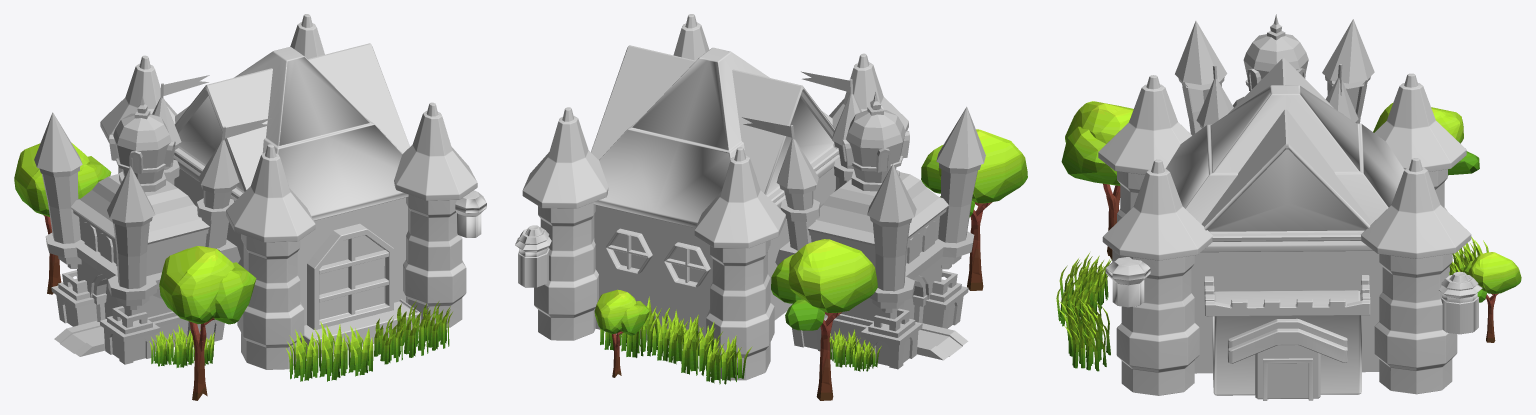
The model's file is NewBase.fbx.
3 renders of one model, left to right at view 1: azimuth 30°, elevation 25°; view 2: azimuth 150°, elevation 25°; view 3: azimuth 270°, elevation 25°, orthographic. The views are drawn at different scales.
Visible parts, largest first — view 1: Brick, castle01.001, Pillar.001, TREE, Pillar, pCube1, Spire.001, Spire, GRASS4, TREE3, GRASS3, Spire.002 (+6 smaller); view 2: Brick, castle01.001, TREE3, Pillar.003, Pillar.002, Spire.002, Spire.003, TREE, GRASS2, TREE2, GRASS, Spire.001 (+4 smaller); view 3: Brick, Pillar.003, castle01.001, Pillar, Spire.003, Spire, Spire.001, Spire.002, TREE, GRASS3, GRASS4, TREE2 (+4 smaller).
Part boxes in pixels (x1,y1,x2,y2): Brick: [173, 43, 486, 325]; castle01.001: [34, 75, 271, 364]; Pillar.001: [237, 234, 304, 369]; TREE: [159, 246, 256, 400]; Pillar: [403, 195, 466, 327]; pCube1: [307, 223, 393, 329]; Spire.001: [226, 144, 315, 242]; Spire: [394, 102, 477, 200]; GRASS4: [286, 321, 373, 381]; TREE3: [14, 142, 111, 294]; GRASS3: [374, 300, 452, 364]; Spire.002: [100, 55, 177, 142]; Brick: [515, 45, 839, 348]; castle01.001: [742, 71, 985, 369]; TREE3: [771, 239, 877, 400]; Pillar.003: [534, 202, 598, 340]; Pillar.002: [706, 240, 774, 380]; Spire.002: [694, 147, 785, 248]; Spire.003: [522, 107, 608, 208]; TREE: [921, 129, 1027, 290]; GRASS2: [668, 314, 752, 384]; TREE2: [594, 289, 649, 377]; GRASS: [600, 296, 696, 361]; Spire.001: [829, 53, 908, 154]; Brick: [1105, 58, 1482, 400]; Pillar.003: [1374, 254, 1457, 394]; castle01.001: [1175, 14, 1374, 135]; Pillar: [1116, 255, 1199, 395]; Spire.003: [1361, 158, 1471, 258]; Spire: [1102, 159, 1213, 260]; Spire.001: [1098, 75, 1191, 174]; Spire.002: [1374, 73, 1466, 171]; TREE: [1061, 101, 1133, 260]; GRASS3: [1058, 297, 1110, 371]; GRASS4: [1056, 253, 1111, 326]; TREE2: [1463, 252, 1521, 342].
Bounding box in the file's own units: 2368 × 2158 × 1446.
